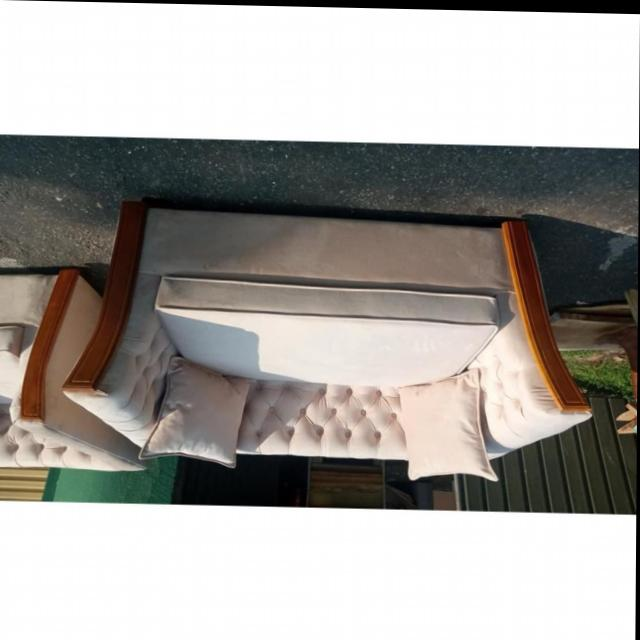Sofa: (64, 194, 597, 478)
